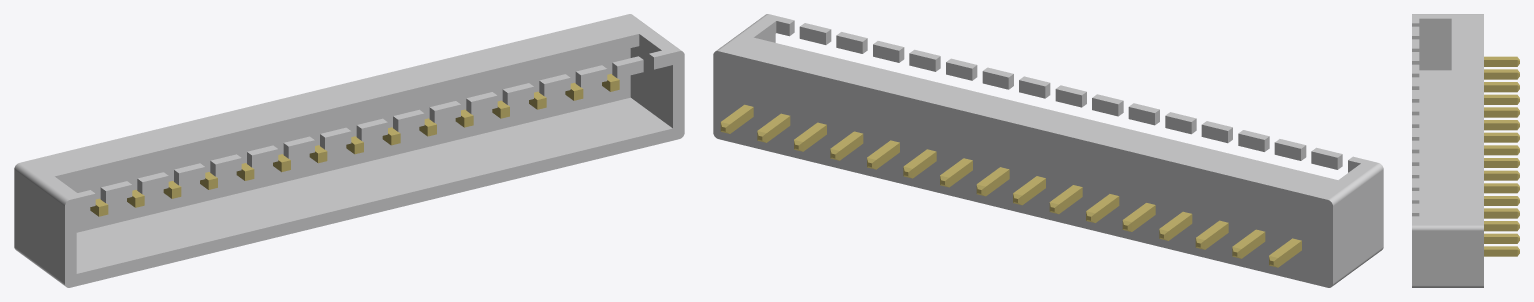
File: jst_xh_16pin.glb
3 renders of one model, left to right at view 1: azimuth 30°, elevation 25°; view 2: azimuth 150°, elevation 25°; view 3: azimuth 270°, elevation 25°, orthographic. The views are drawn at different scales.
Visible parts, largest first — view 1: world; view 2: world; view 3: world.
Boxes of the visible parts, box(x1,y1,x2,y2) form: world: box(14, 14, 684, 287); world: box(713, 14, 1383, 287); world: box(1412, 14, 1519, 287).
Bounding box in the file's own units: 42.4 × 5.75 × 9.
